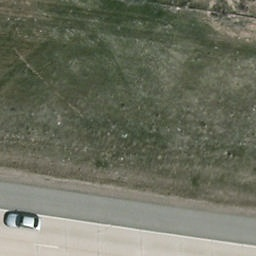car: (5, 211, 43, 231)
